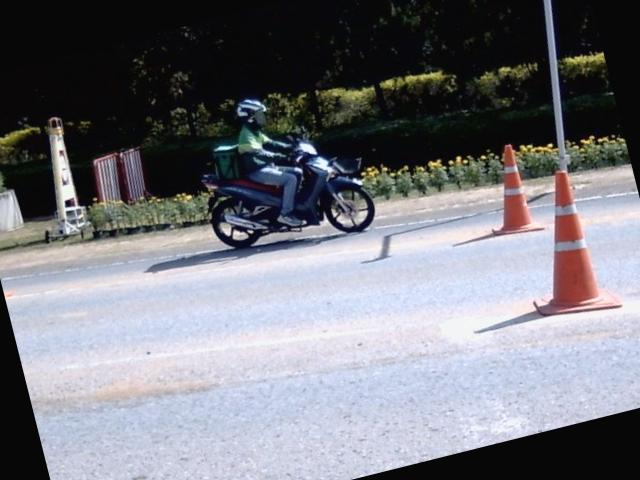helmet: (233, 98, 266, 129)
motor: (201, 139, 374, 247)
person: (236, 99, 301, 226)
